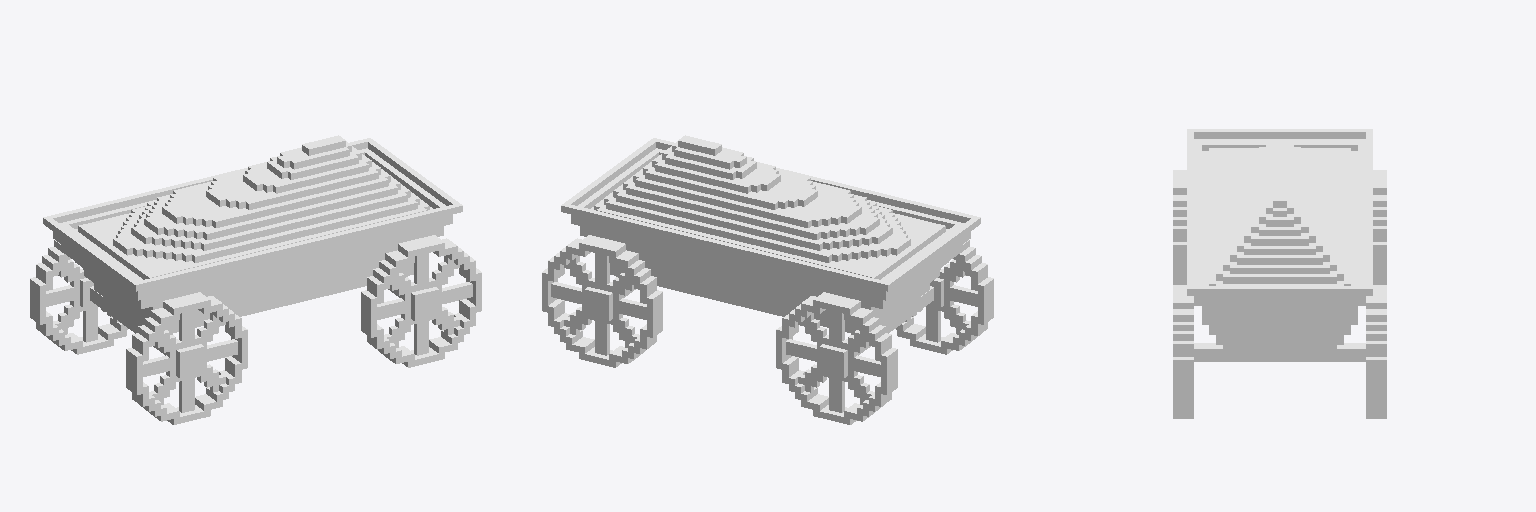
File: Let-5.obj
The picture shows the model from 3 angles: view 1: azimuth 30°, elevation 25°; view 2: azimuth 150°, elevation 25°; view 3: azimuth 270°, elevation 25°; orthographic projection.
Visible parts, largest first — view 1: object 1; view 2: object 1; view 3: object 1.
Part boxes in pixels (left/top/right/bottom): object 1: left=30, top=135, right=481, bottom=424; object 1: left=542, top=135, right=993, bottom=424; object 1: left=1173, top=129, right=1386, bottom=418.
Bounding box in the file's own units: 5.6 × 3 × 3.